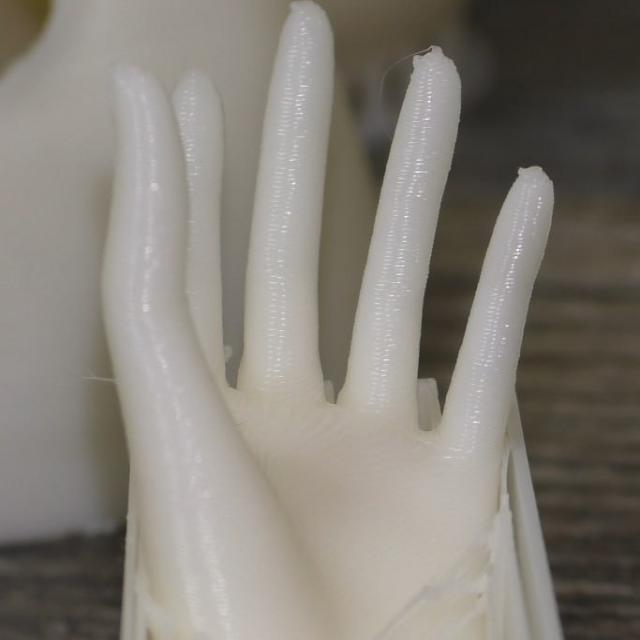Without deffect: (76, 1, 564, 640)
